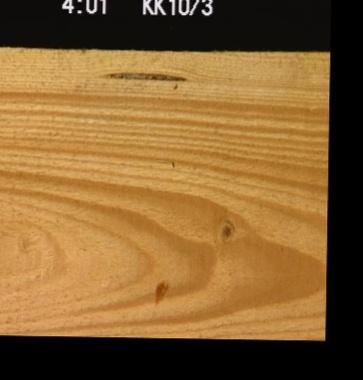sound_knot: (212, 215, 234, 245)
